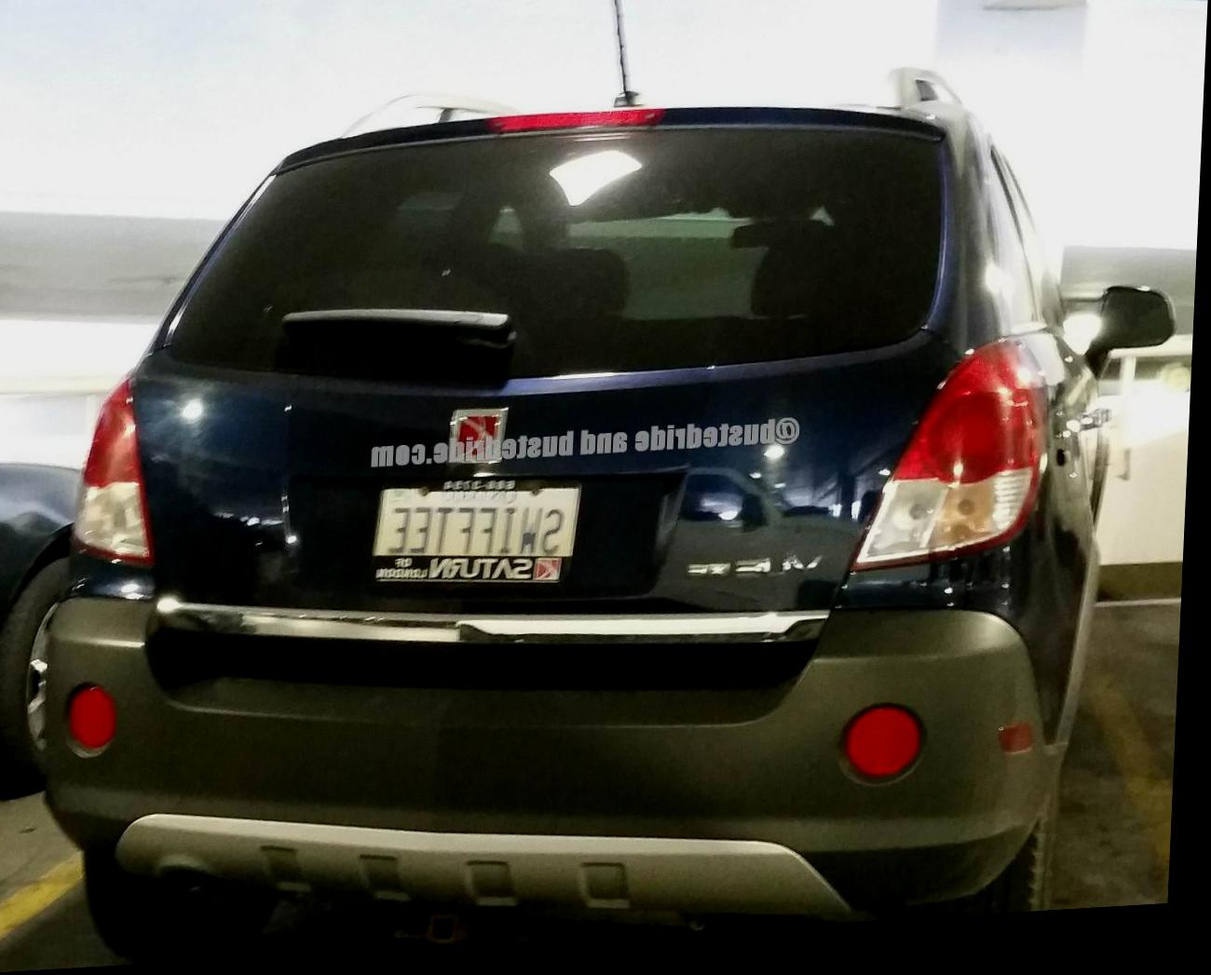License_Plate: (360, 467, 588, 602)
